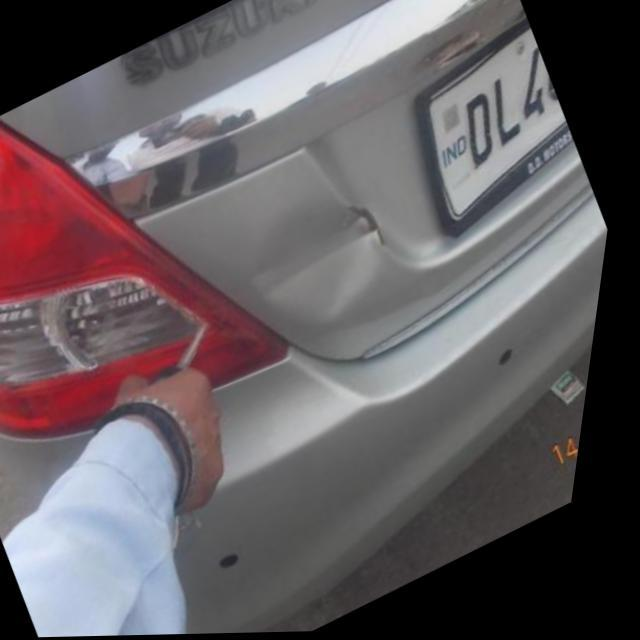dent: (255, 197, 389, 325)
scratch: (353, 208, 392, 245)
